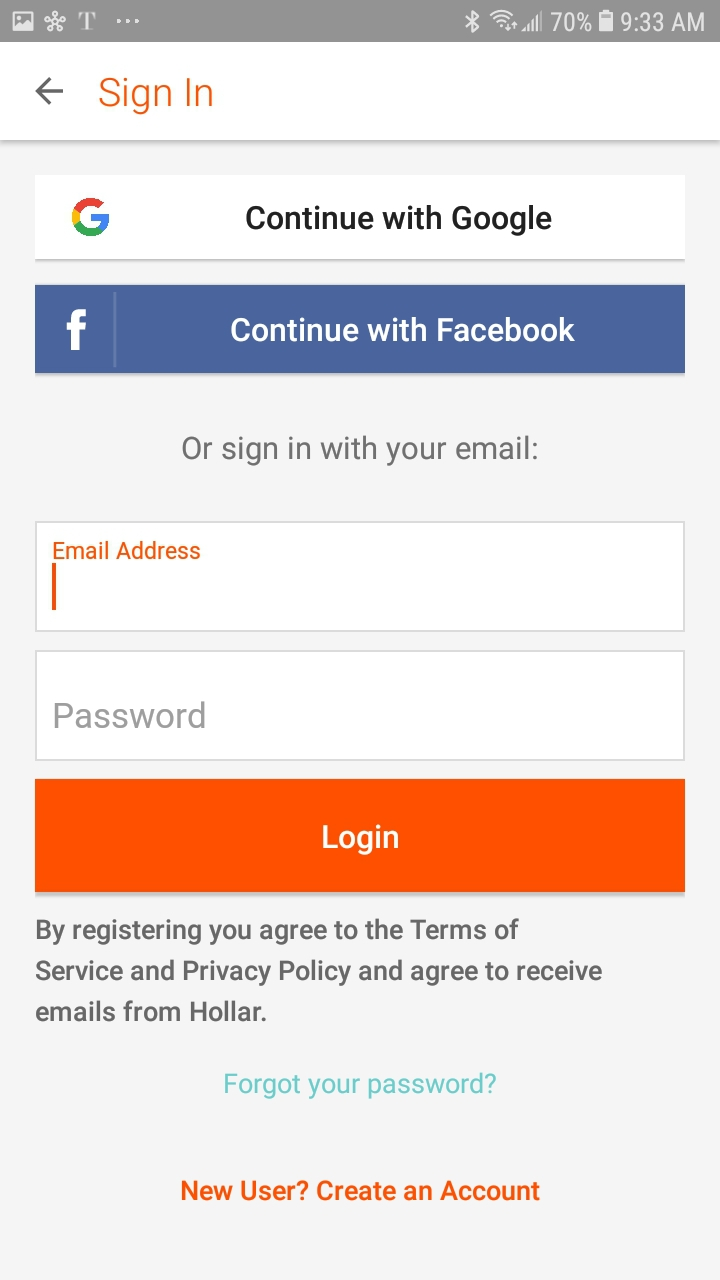EditText: (36, 650, 685, 761), (36, 522, 685, 633)
Icon: (36, 78, 64, 106)
Text: (37, 918, 603, 1022), (182, 436, 537, 467), (182, 1179, 540, 1201), (225, 1072, 497, 1100), (55, 700, 206, 730), (100, 78, 213, 116), (55, 541, 201, 560)
TextButton: (36, 780, 685, 893), (36, 285, 685, 375), (36, 176, 685, 260)
UpperTaskBar: (1, 1, 720, 43)
